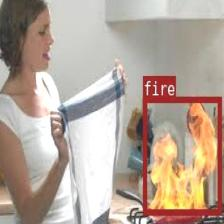fire: (143, 96, 221, 214)
